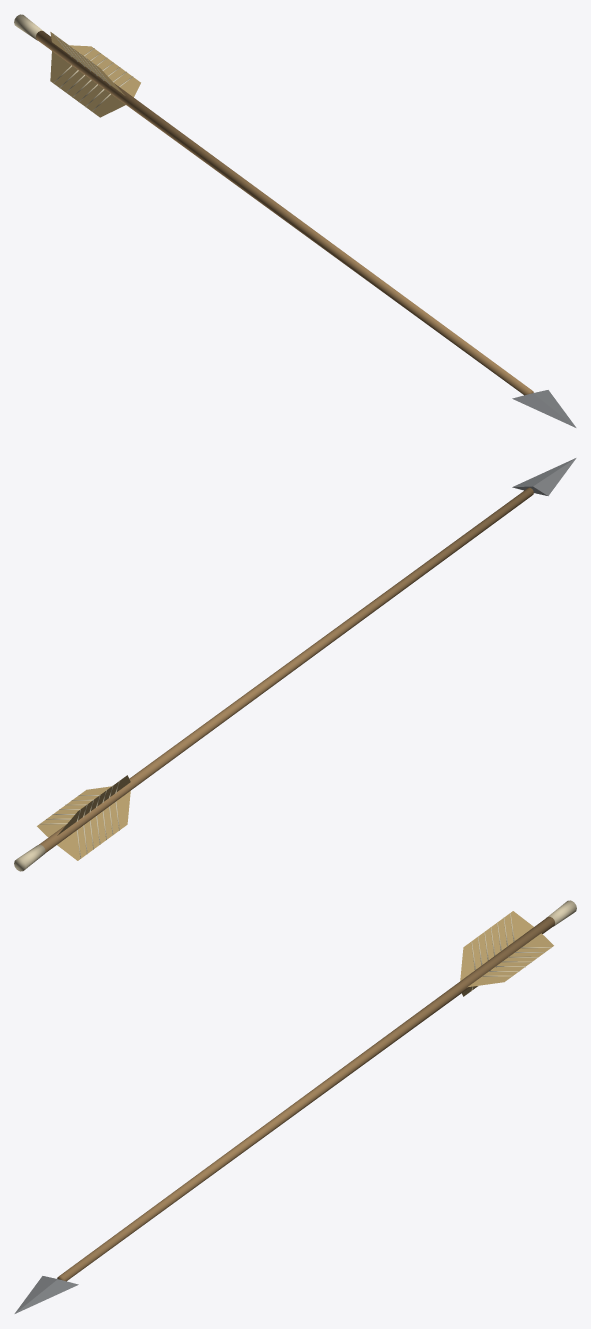
File: bear_arrow.glb
3 renders of one model, top to bottom at view 1: azimuth 30°, elevation 25°; view 2: azimuth 150°, elevation 25°; view 3: azimuth 330°, elevation 25°, orthographic.
Parts seen in each view (by area): view 1: Arrow cedar, Barred ochre feather, Bone nock, Forged arrowhead; view 2: Arrow cedar, Barred ochre feather, Bone nock, Forged arrowhead; view 3: Arrow cedar, Barred ochre feather, Bone nock, Forged arrowhead.
Boxes of the visible parts, bbox=[...] form: Arrow cedar: bbox=[36, 30, 533, 395]; Barred ochre feather: bbox=[50, 32, 140, 117]; Bone nock: bbox=[14, 14, 133, 111]; Forged arrowhead: bbox=[512, 390, 576, 427]; Arrow cedar: bbox=[39, 487, 533, 853]; Barred ochre feather: bbox=[37, 775, 130, 860]; Bone nock: bbox=[14, 780, 119, 871]; Forged arrowhead: bbox=[512, 458, 576, 495]; Arrow cedar: bbox=[57, 916, 554, 1281]; Barred ochre feather: bbox=[460, 911, 553, 996]; Bone nock: bbox=[471, 900, 576, 991]; Forged arrowhead: bbox=[14, 1276, 78, 1313].
Size of the model in its own units: 0.0452 by 0.0473 by 0.95.
